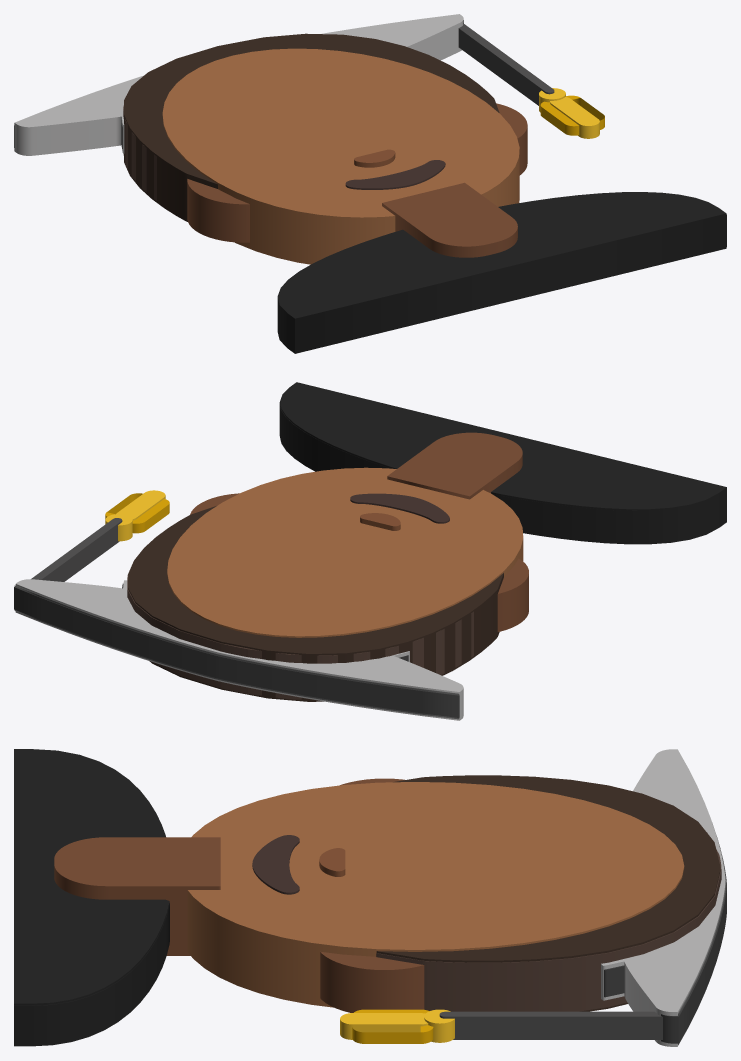
File: emoji_u1f468_1f3fe_200d_1f393.glb
The picture shows the model from 3 angles, top to bottom: view 1: azimuth 30°, elevation 25°; view 2: azimuth 150°, elevation 25°; view 3: azimuth 270°, elevation 25°; orthographic projection. The views are drawn at different scales.
Visible parts, largest first — view 1: emoji_u1f468_1f3fe_200d_1f393; view 2: emoji_u1f468_1f3fe_200d_1f393; view 3: emoji_u1f468_1f3fe_200d_1f393.
Part boxes in pixels (x1,y1,x2,y2): emoji_u1f468_1f3fe_200d_1f393: [14, 14, 726, 353]; emoji_u1f468_1f3fe_200d_1f393: [14, 382, 726, 720]; emoji_u1f468_1f3fe_200d_1f393: [14, 749, 726, 1046].
Bounding box in the file's own units: 0.0301 × 0.0038 × 0.0334.
